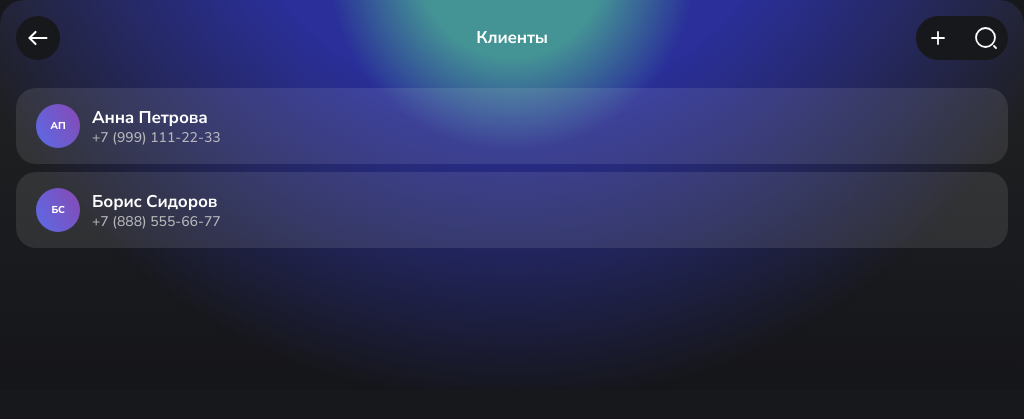
Test case: ClientsPage › не показывает block control для ручного клиента
Click the button "БС Борис Сидоров +7 (888) 555-66-77": (58, 210) [16, 172, 1008, 248]
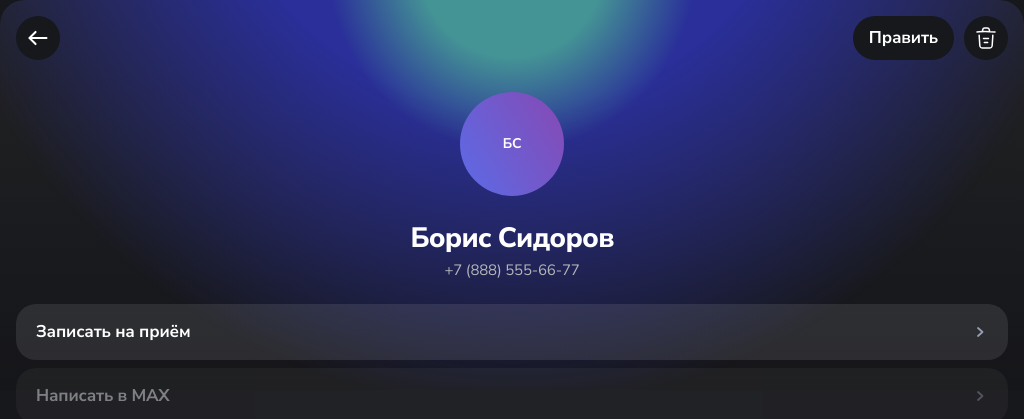
Expected: the button "Записать на приём" is shown, [16, 304, 1008, 360]
